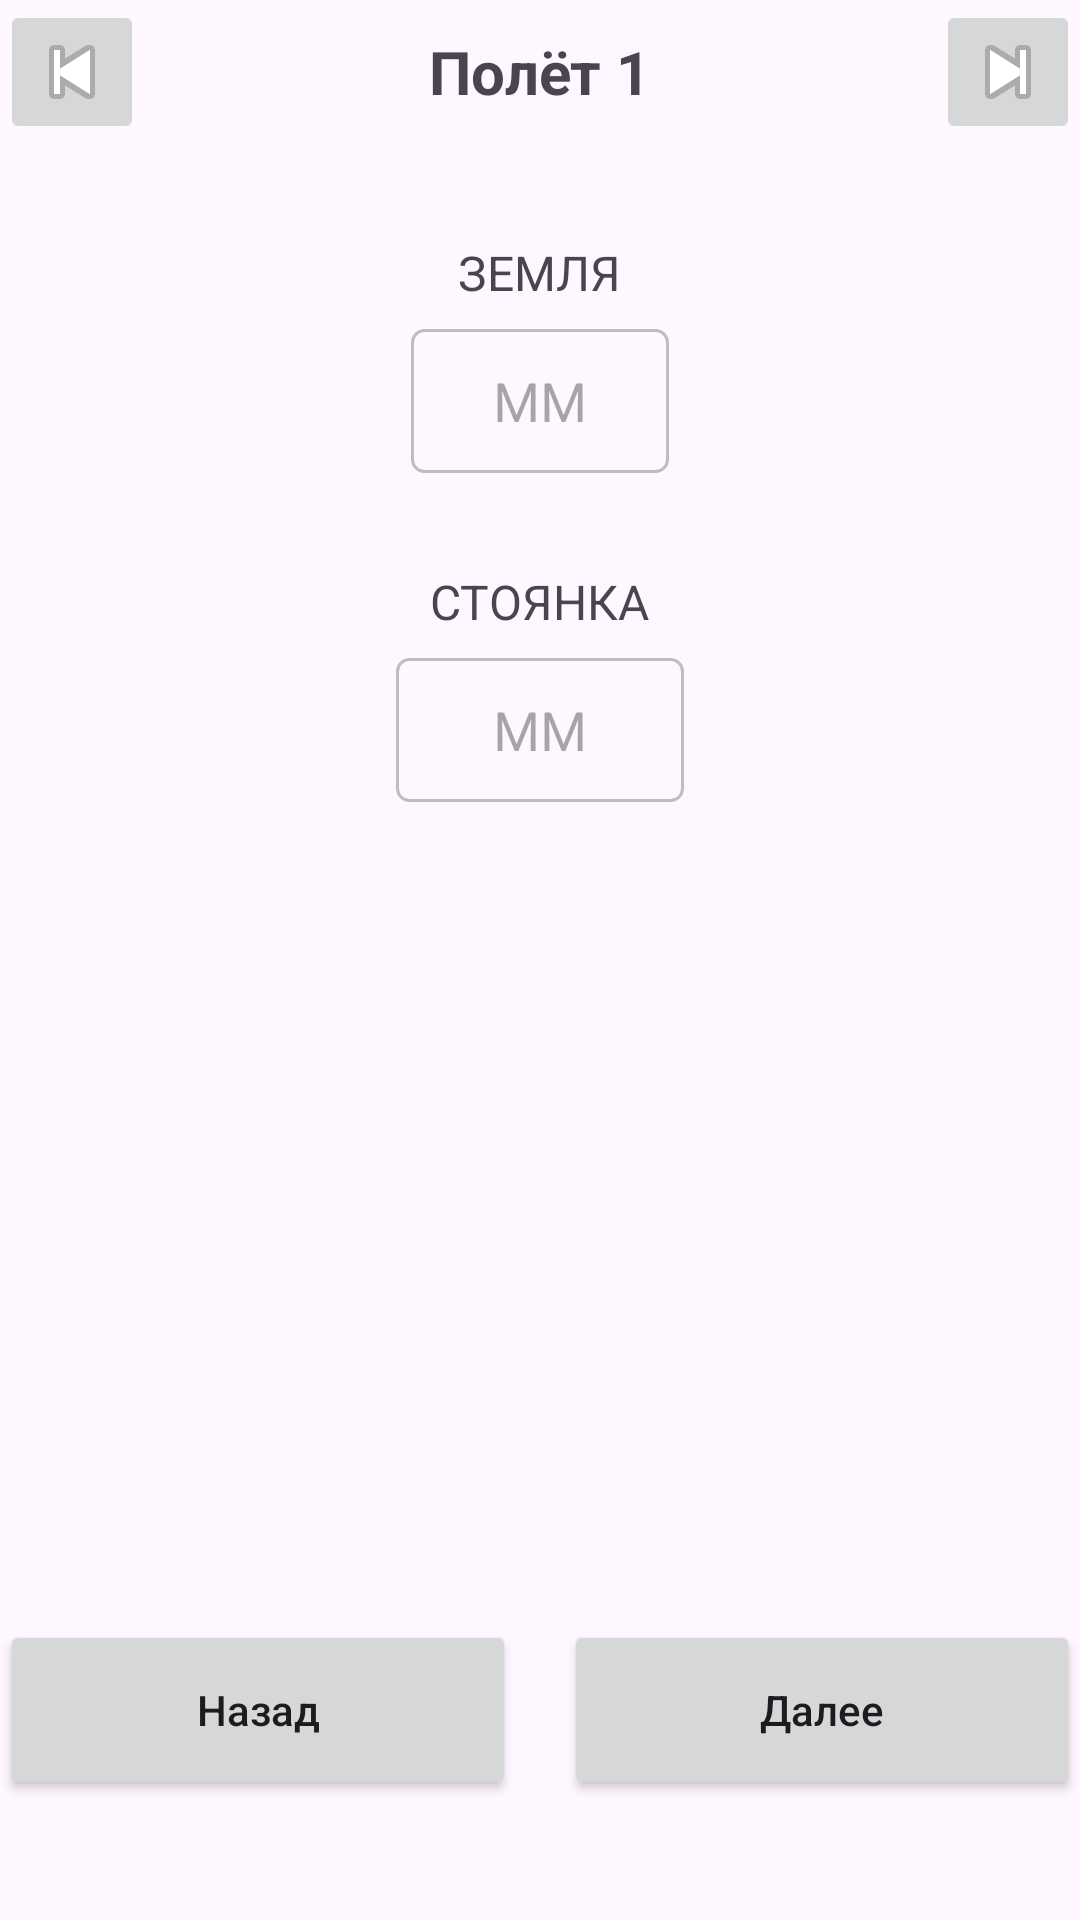

Icon click points for this 1080 x 1920 phone screenshot, format (x=x, y=y):
Вперёд: (x=1008, y=72)
Назад: (x=72, y=72)
